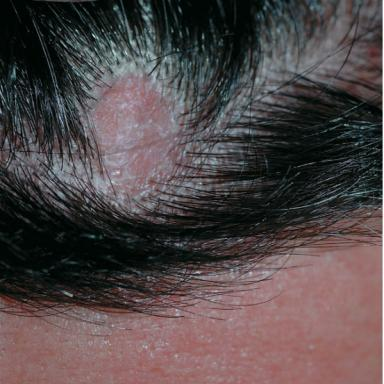Lupus-Erythematosus-Chronicus-Discoides: (90, 72, 180, 210)
